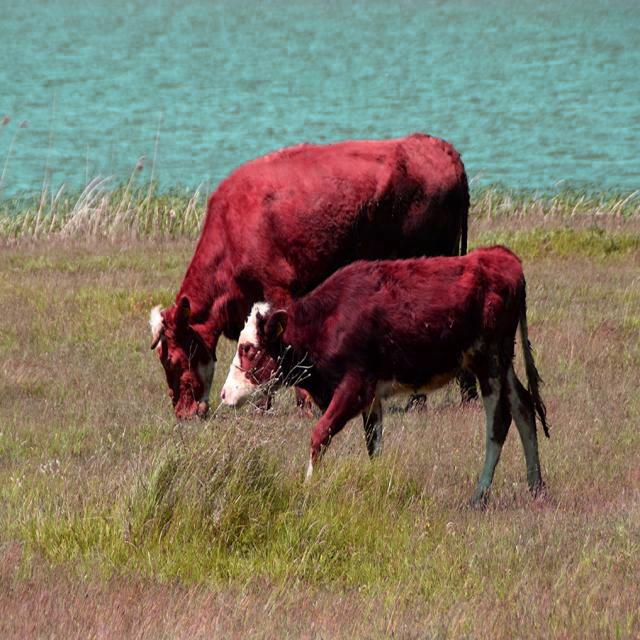cow: (152, 134, 469, 417), (221, 246, 547, 504)
